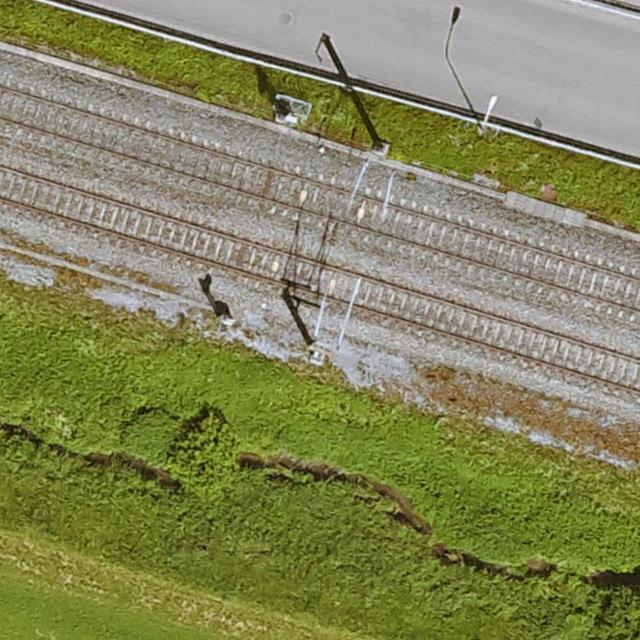tree: (169, 417, 236, 489), (598, 585, 640, 640)
